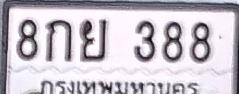3: (134, 20, 156, 62)
8: (189, 21, 211, 63), (17, 18, 38, 60), (162, 20, 183, 62)
A01: (45, 18, 72, 62)
A34: (79, 18, 108, 62)
BKK: (37, 75, 203, 94)
